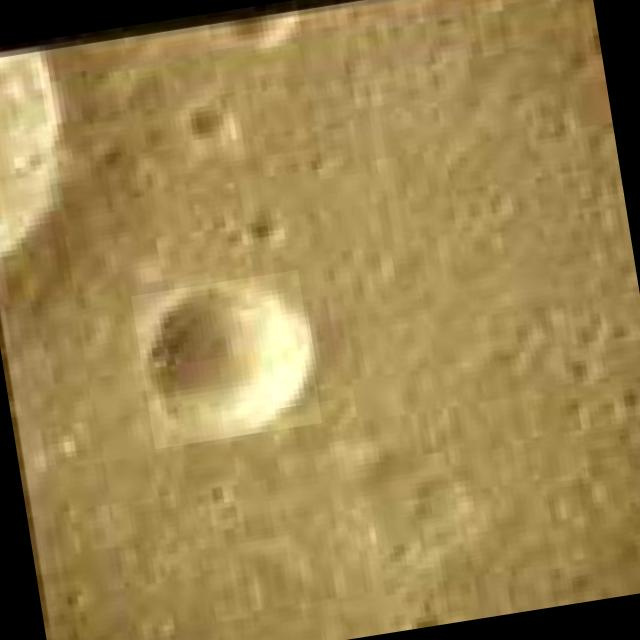crater: (131, 270, 322, 450)
